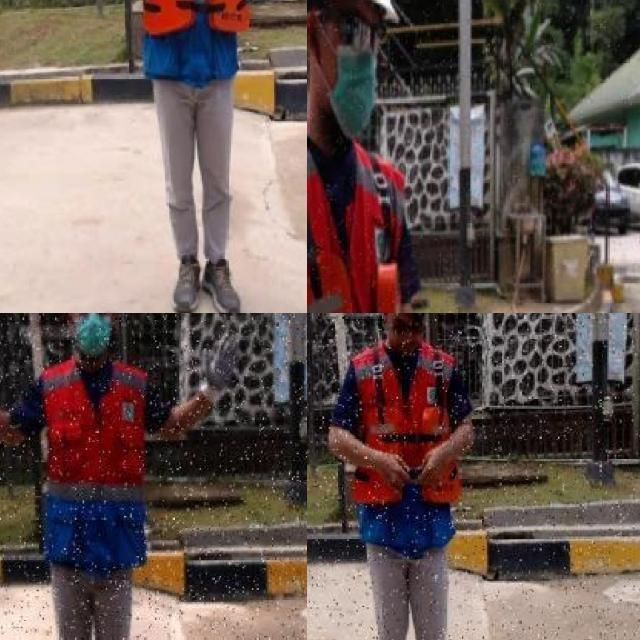apron: (201, 328, 243, 404)
